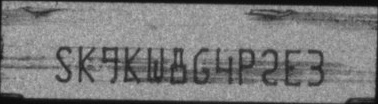2: (260, 46, 279, 86)
3: (305, 47, 323, 87)
4: (214, 46, 233, 86)
8: (169, 46, 188, 85)
9: (101, 45, 119, 83)
E: (284, 48, 302, 87)
G: (191, 45, 209, 85)
K: (76, 45, 96, 83), (123, 45, 141, 83)
P: (237, 47, 257, 85)
S: (54, 45, 73, 83)
W: (146, 45, 165, 83)
